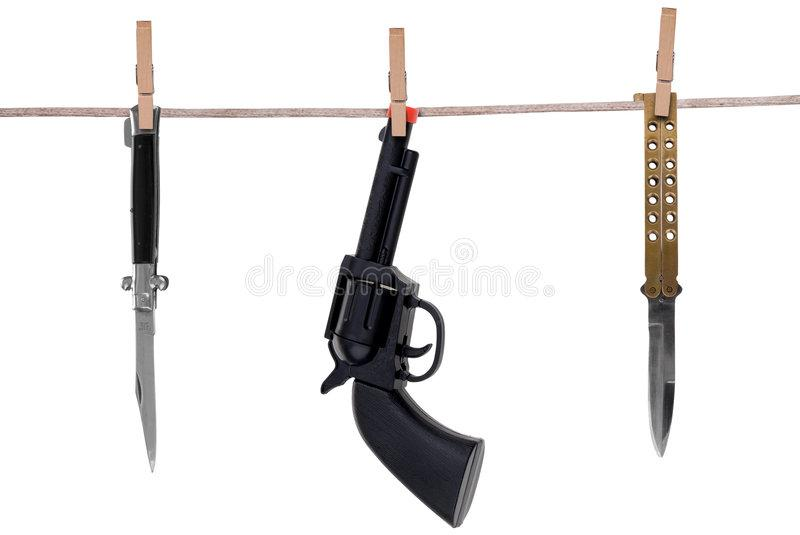weapon: (318, 100, 488, 530), (118, 99, 173, 477), (634, 88, 689, 460)
